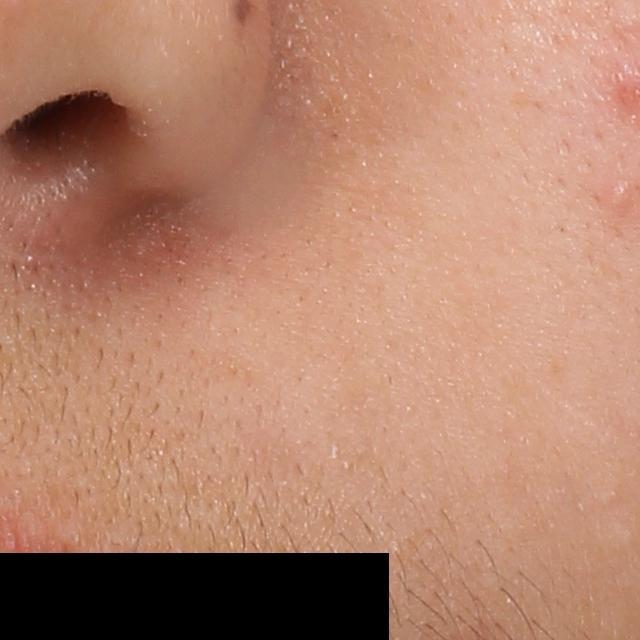papule: (608, 180, 637, 209)
